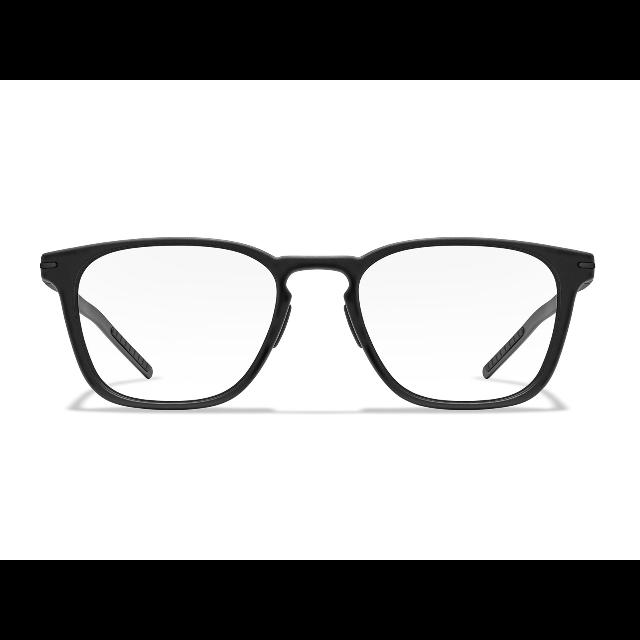glasses: (34, 230, 598, 430)
